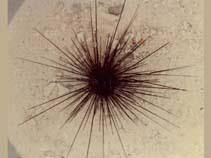urchin: (22, 11, 175, 146)
